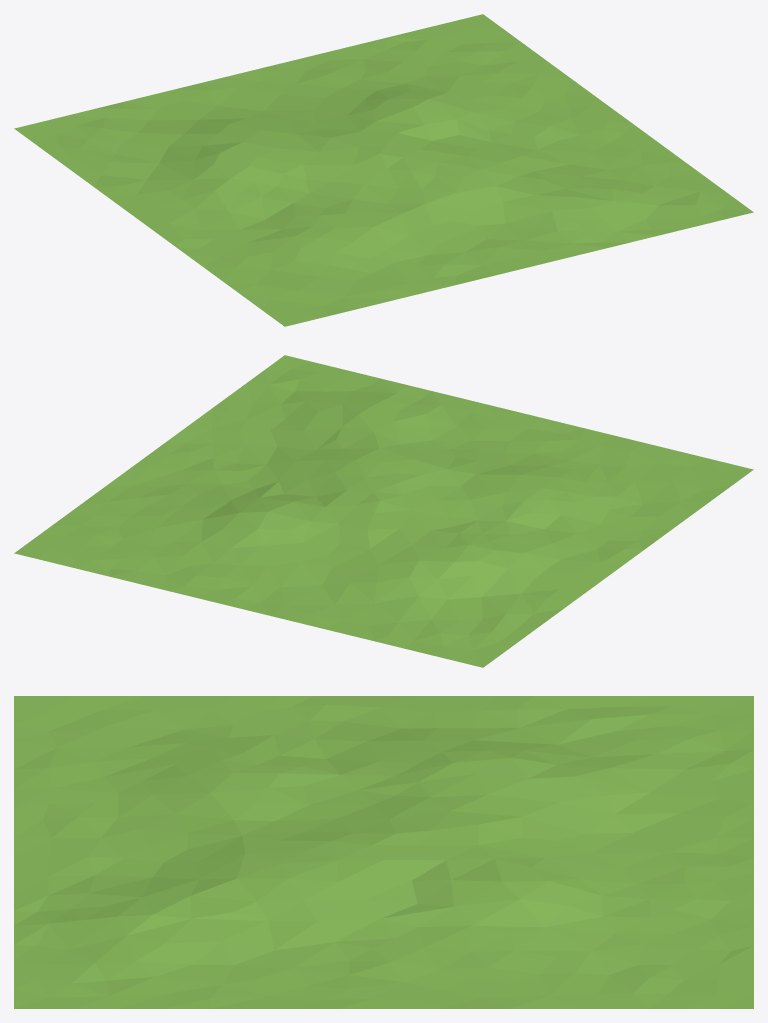
File: MT_Terrain_M_a_05_LOD.fbx
3 views of the same model, one above another, from view 1: azimuth 30°, elevation 25°; view 2: azimuth 150°, elevation 25°; view 3: azimuth 270°, elevation 25° (orthographic). The views are drawn at different scales.
Parts seen in each view (by area): view 1: MT_Terrain_M_a_05_LOD0; view 2: MT_Terrain_M_a_05_LOD0; view 3: MT_Terrain_M_a_05_LOD0.
Boxes of the visible parts, x1,y1,x2,y2 form: MT_Terrain_M_a_05_LOD0: (14, 14, 753, 326); MT_Terrain_M_a_05_LOD0: (14, 355, 753, 667); MT_Terrain_M_a_05_LOD0: (14, 696, 753, 1008).
Size of what is drawn, in the model's own units: 5000 by 151 by 5000.
